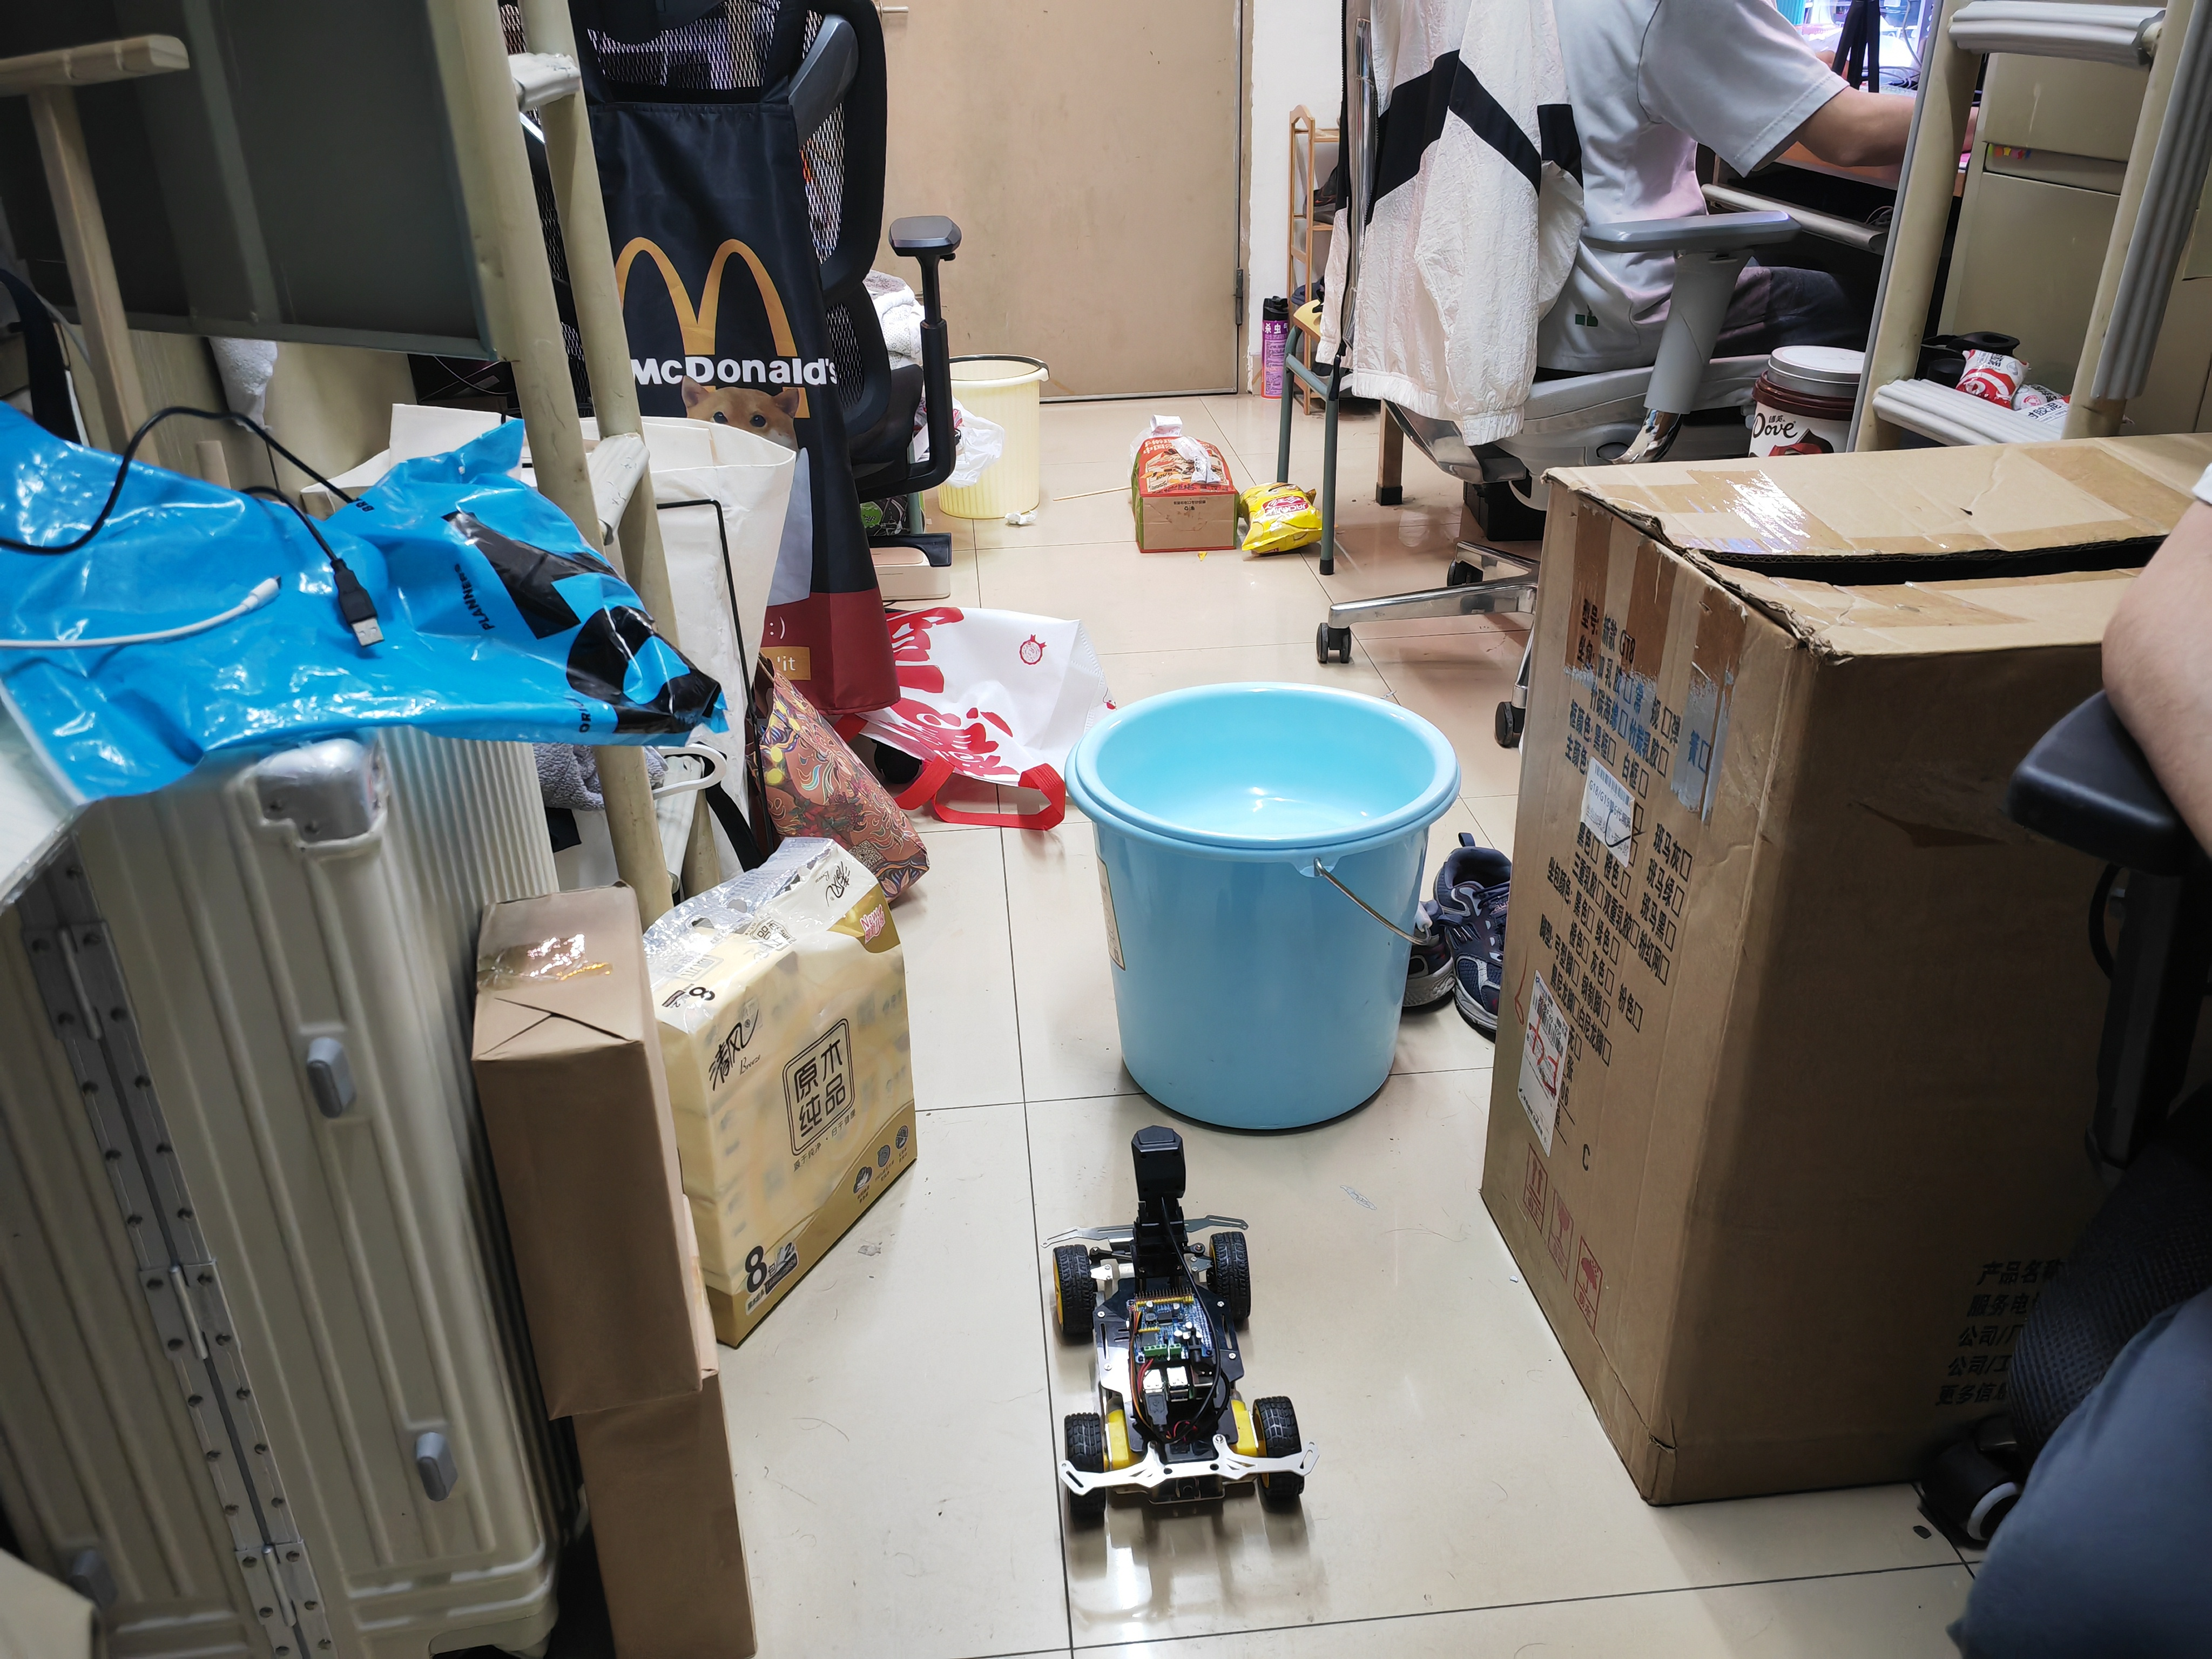car: (1028, 1134, 1318, 1532)
